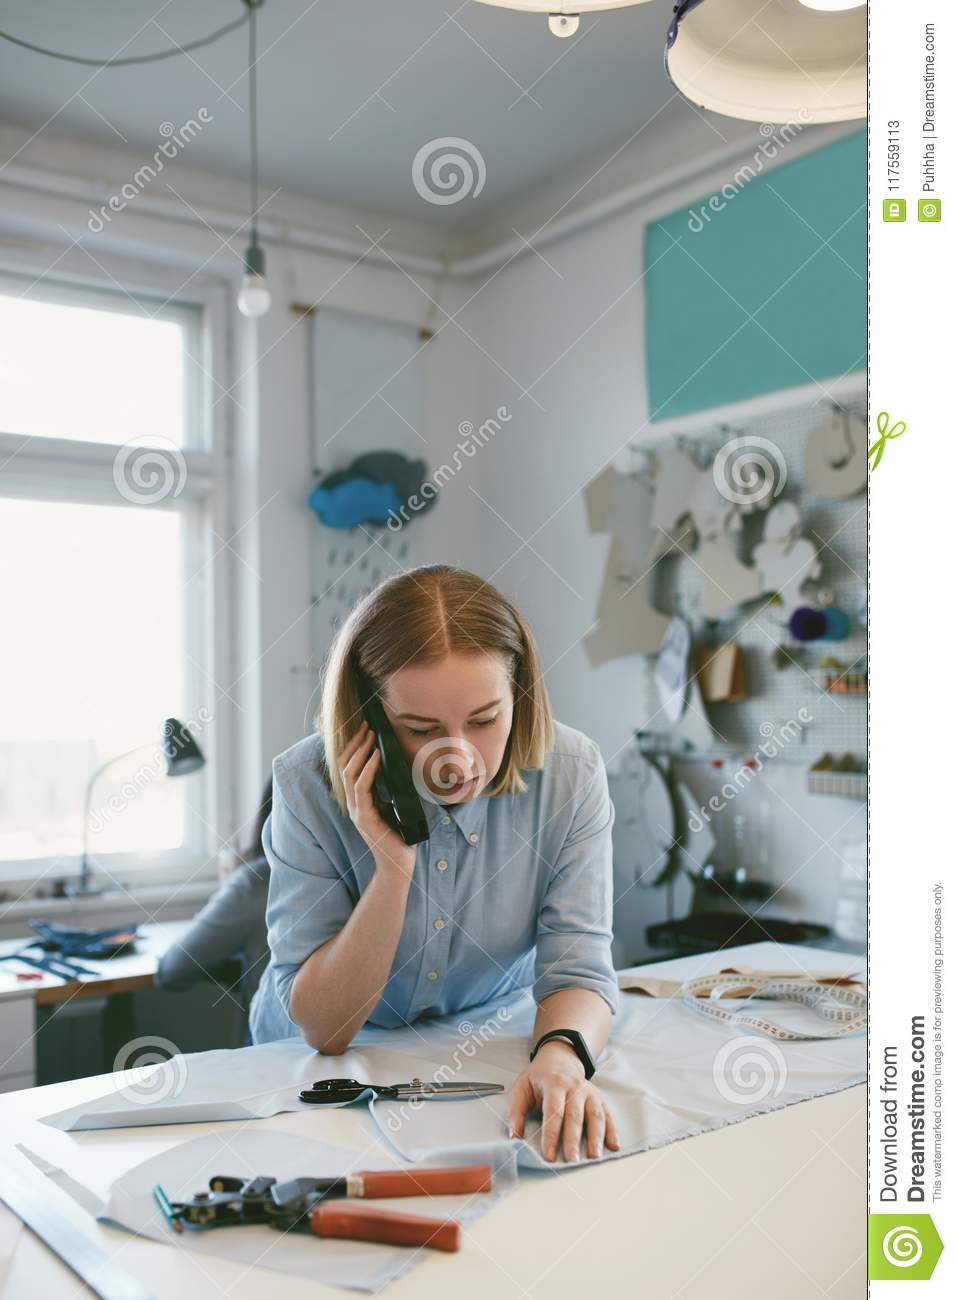phone: (362, 694, 430, 851)
talk: (342, 688, 515, 884)
